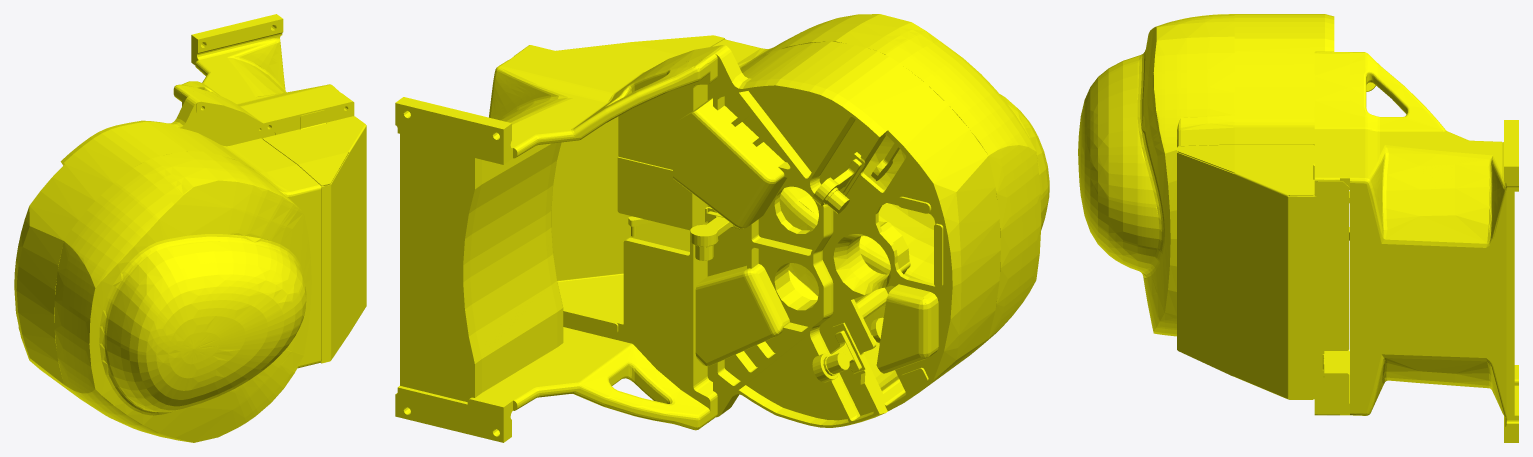
3 renders of one model, left to right at view 1: azimuth 30°, elevation 25°; view 2: azimuth 150°, elevation 25°; view 3: azimuth 270°, elevation 25°, orthographic. The views are drawn at different scales.
Parts seen in each view (by area): view 1: node; view 2: node; view 3: node.
Boxes of the visible parts, <box> form: node: <box>14,14,366,442</box>; node: <box>395,14,1049,442</box>; node: <box>1078,14,1518,442</box>.
Size of the model in its own units: 558 by 430 by 535.
